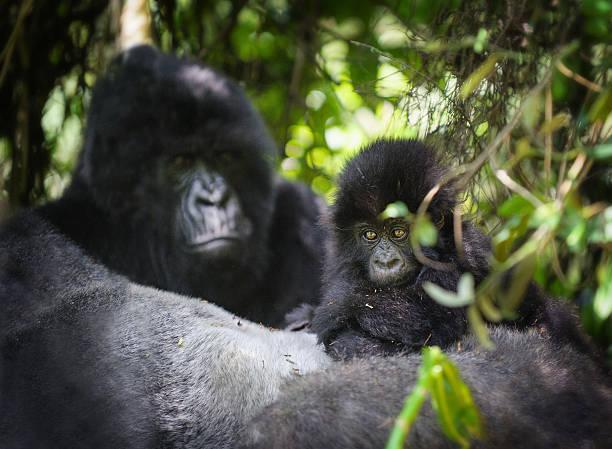goriile_montagne: (0, 52, 334, 449), (336, 121, 538, 370)
